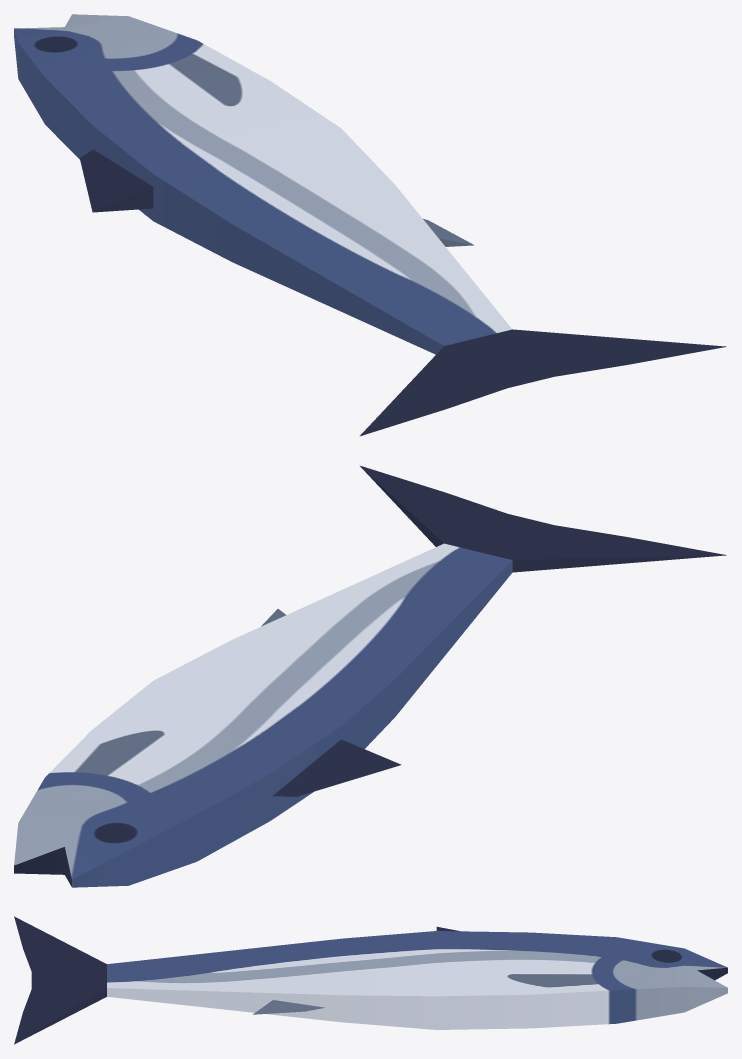
File: anchovies_Slice_Fish_0.glb
3 views of the same model, one above another, from view 1: azimuth 30°, elevation 25°; view 2: azimuth 150°, elevation 25°; view 3: azimuth 270°, elevation 25° (orthographic). The views are drawn at different scales.
Parts seen in each view (by area): view 1: anchovies_Slice_Fish_0; view 2: anchovies_Slice_Fish_0; view 3: anchovies_Slice_Fish_0.
Part boxes in pixels (x1,y1,x2,y2): anchovies_Slice_Fish_0: (14,14,726,436); anchovies_Slice_Fish_0: (14,465,726,887); anchovies_Slice_Fish_0: (14,916,727,1044).
Size of the model in its own units: 0.0817 by 0.01 by 0.192.
1 material, 1 textured.
